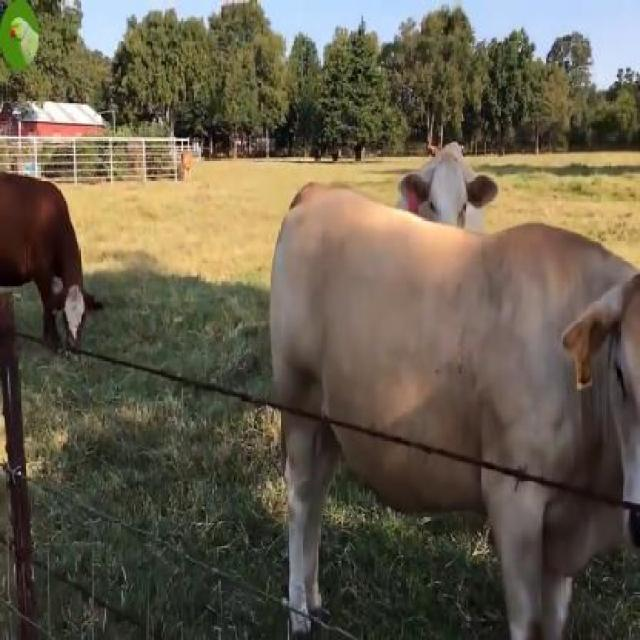Cow: (271, 176, 638, 638)
